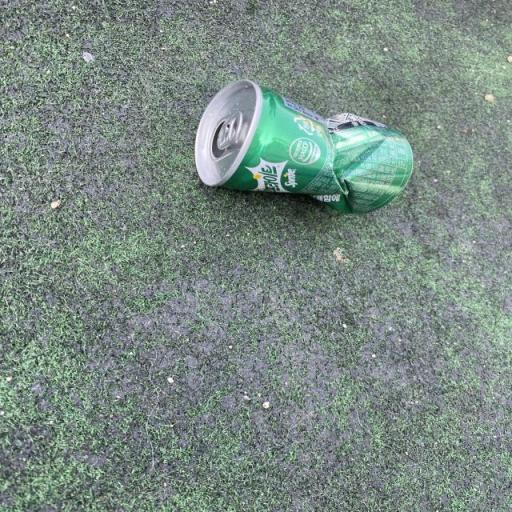metal: (160, 70, 450, 234)
